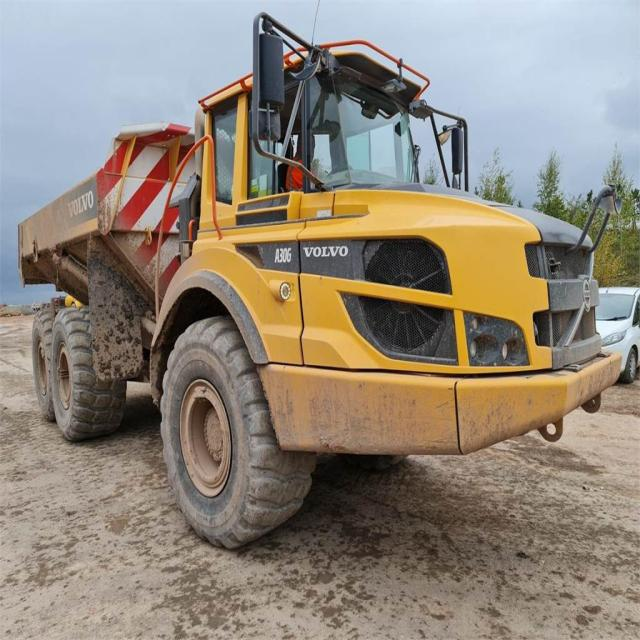dump_truck: (21, 11, 622, 553)
